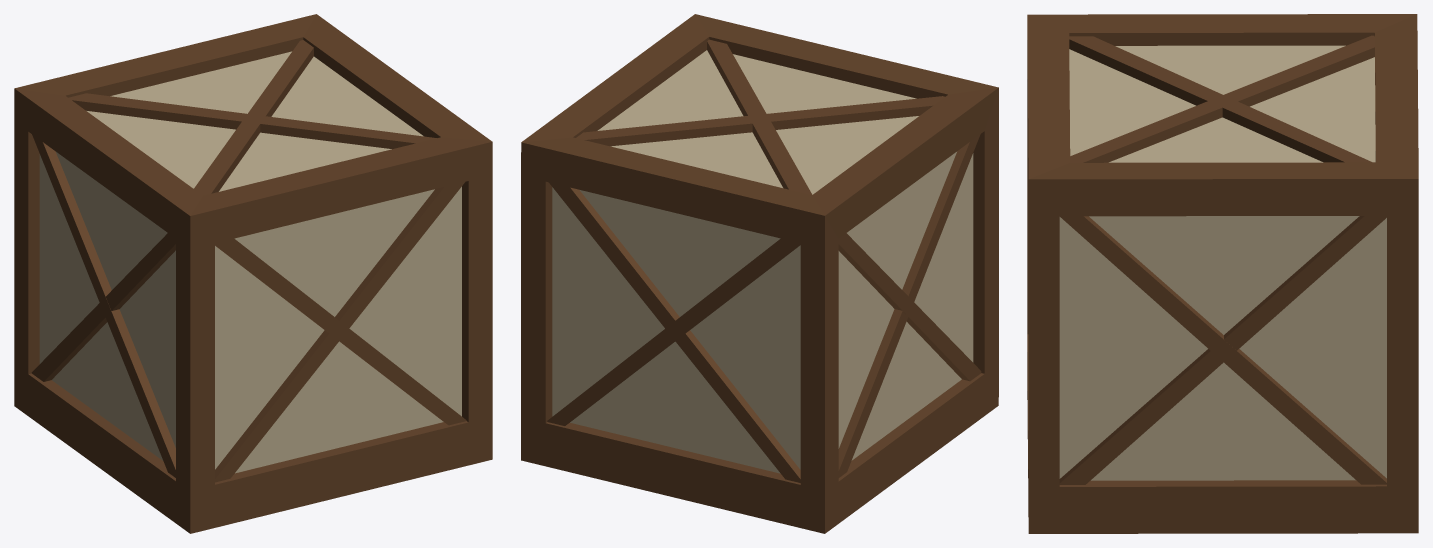
File: Wooden_Boxes__006.fbx
The picture shows the model from 3 angles, left to right: view 1: azimuth 30°, elevation 25°; view 2: azimuth 150°, elevation 25°; view 3: azimuth 270°, elevation 25°; orthographic projection. The views are drawn at different scales.
Visible parts, largest first — view 1: Wooden box-6; view 2: Wooden box-6; view 3: Wooden box-6.
Boxes of the visible parts, <box> form: Wooden box-6: <box>14,14,492,533</box>; Wooden box-6: <box>521,14,998,533</box>; Wooden box-6: <box>1027,14,1418,533</box>.
Bounding box in the file's own units: 1.06 × 1.06 × 1.06.
